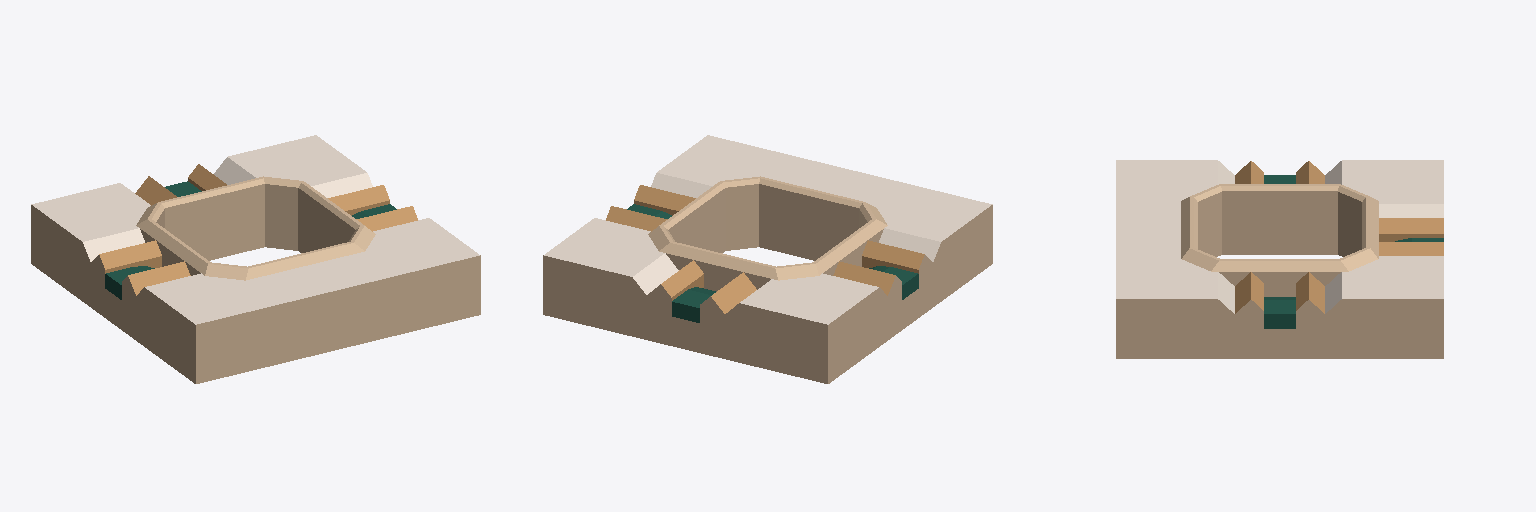
File: Puzzle_Floor_Conduit_Control_Housing_TJoint.obj
3 renders of one model, left to right at view 1: azimuth 30°, elevation 25°; view 2: azimuth 150°, elevation 25°; view 3: azimuth 270°, elevation 25°, orthographic.
Visible parts, largest first — view 1: object4, object2; view 2: object4, object1, object2; view 3: object4, object3.
Boxes of the visible parts, <box> form: object4: <box>31,135,480,383</box>; object2: <box>105,266,154,299</box>; object4: <box>543,135,992,383</box>; object1: <box>672,287,715,322</box>; object2: <box>869,266,918,299</box>; object4: <box>1116,160,1443,358</box>; object3: <box>1264,297,1295,328</box>.
Size of the model in its own units: 1 by 0.225 by 1.